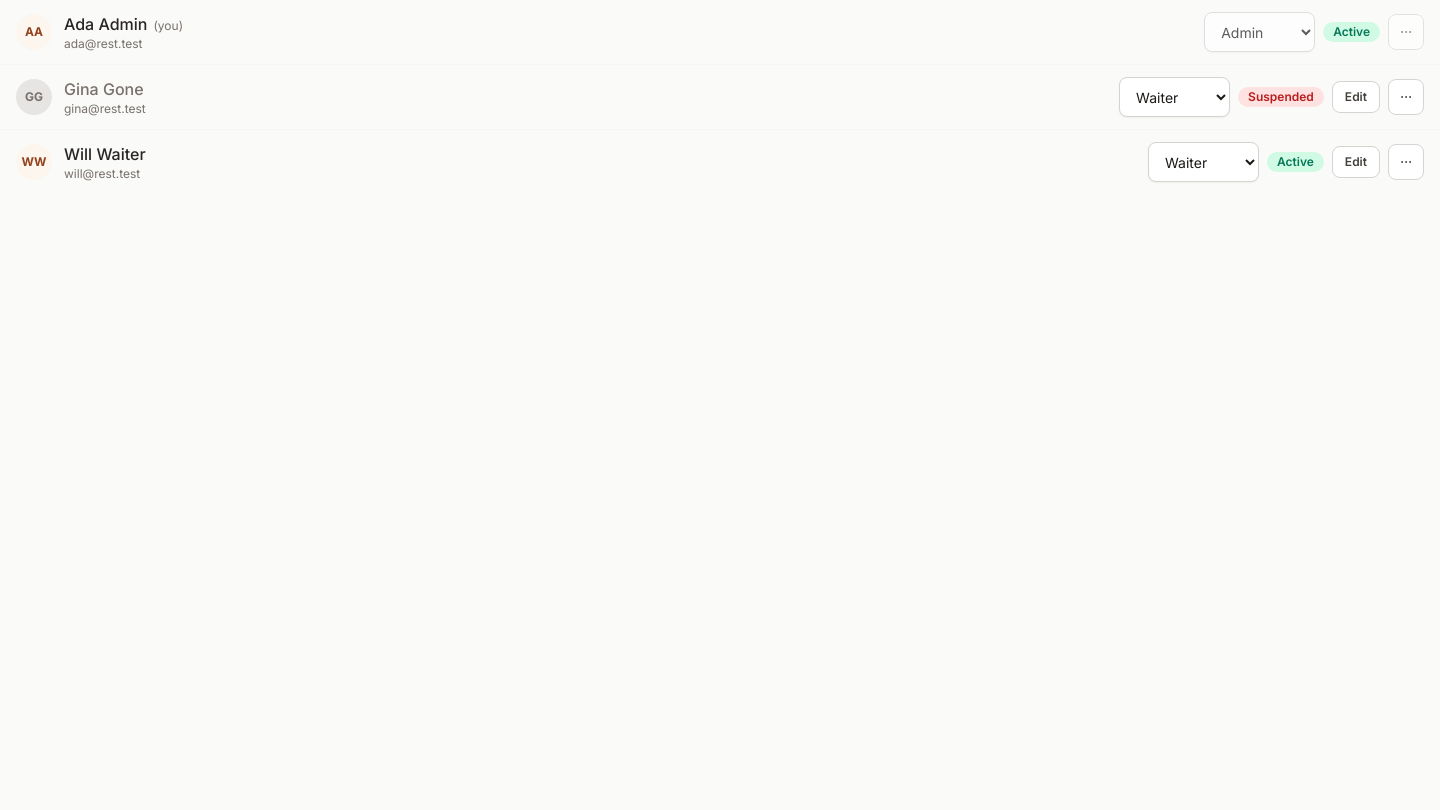
Test: AccountTable › suspends an active user only after confirming, and offers to reactivate a suspended one
The image size is (1440, 810).
Click the button named "More actions for Will Waiter": (1406, 162) [1388,144,1424,180]
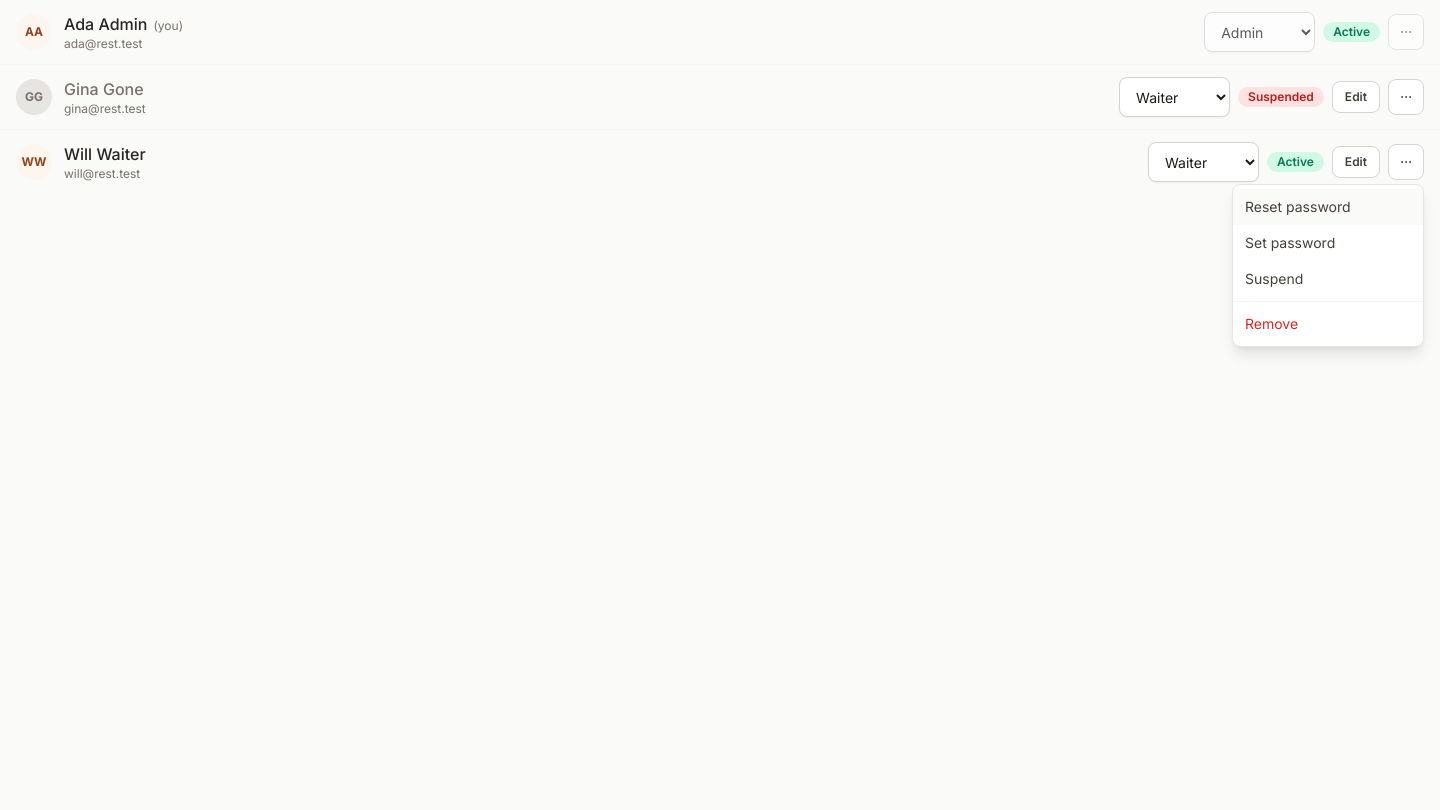
Click the menu item "Suspend": (1328, 279) [1233,261,1423,297]
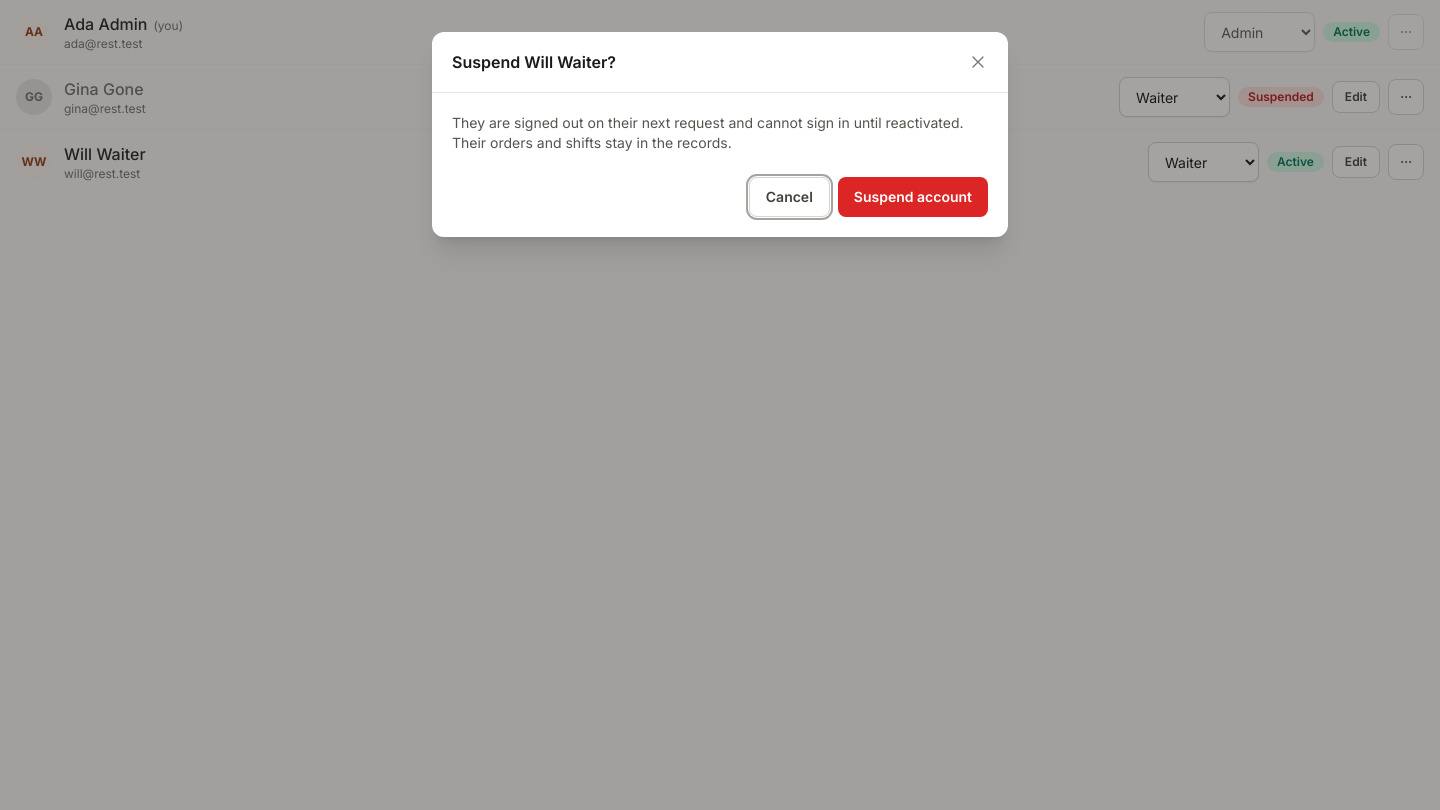
Check: the dialog "Suspend Will Waiter?" is shown
Click the button "Suspend account": (913, 197) [838,177,988,217]
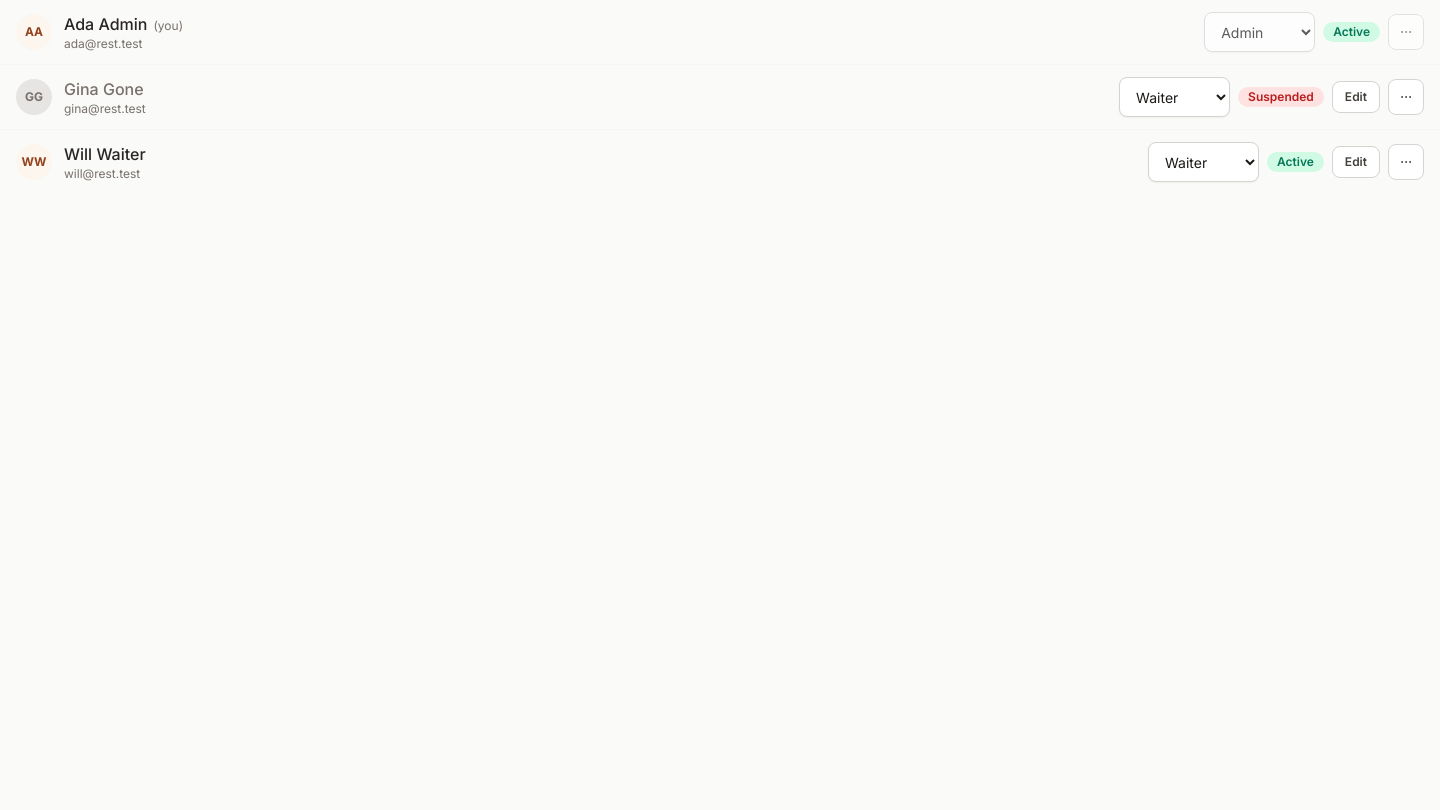
Check: the text "Suspended" is shown, box [1238,87,1324,107]
Click the button named "More actions for Gina Gone": (1406, 97) [1388,79,1424,115]
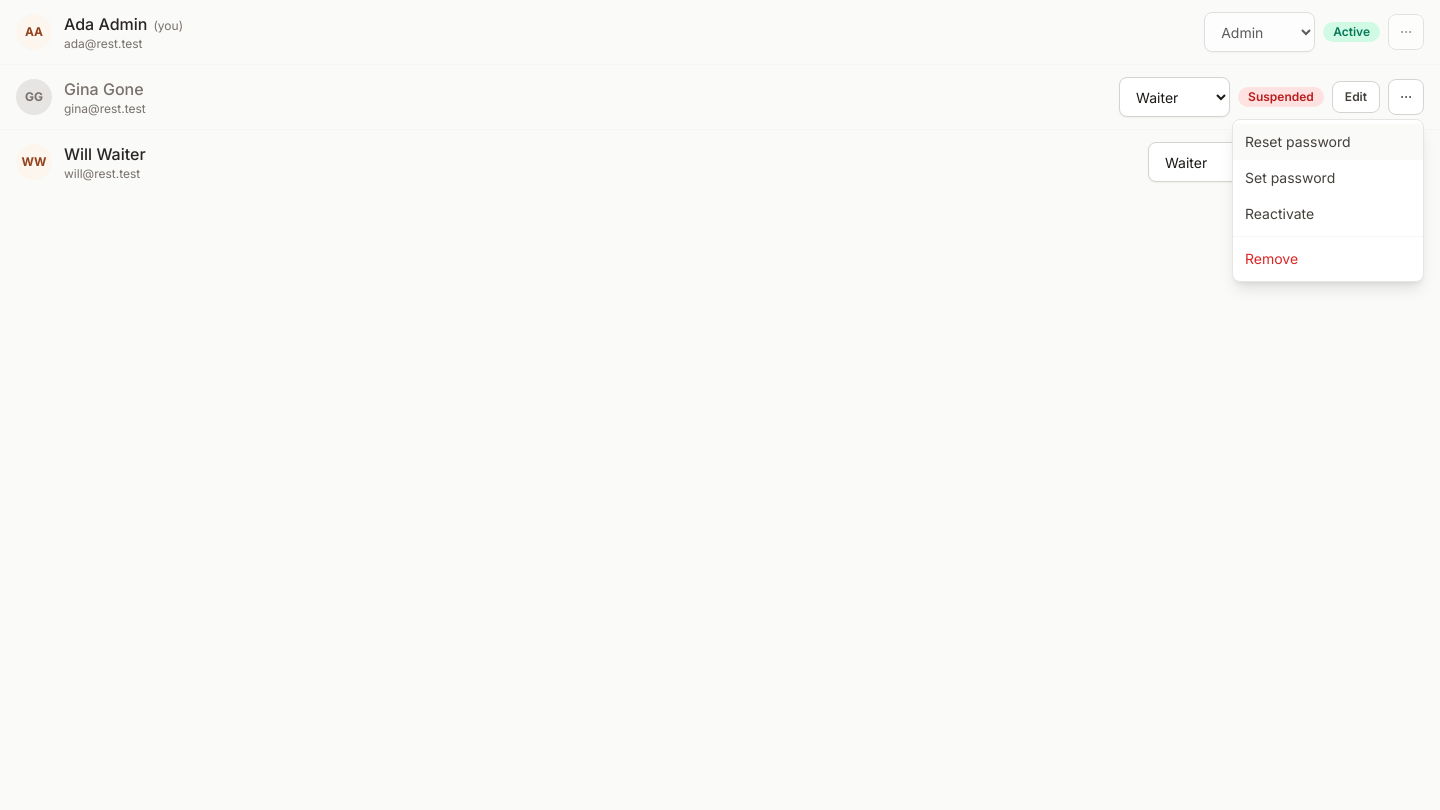
Check: the menu item "Reactivate" is shown, box [1233,196,1423,232]
